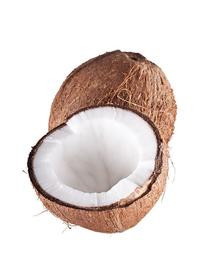coconut: (27, 104, 169, 234), (49, 50, 177, 164)
